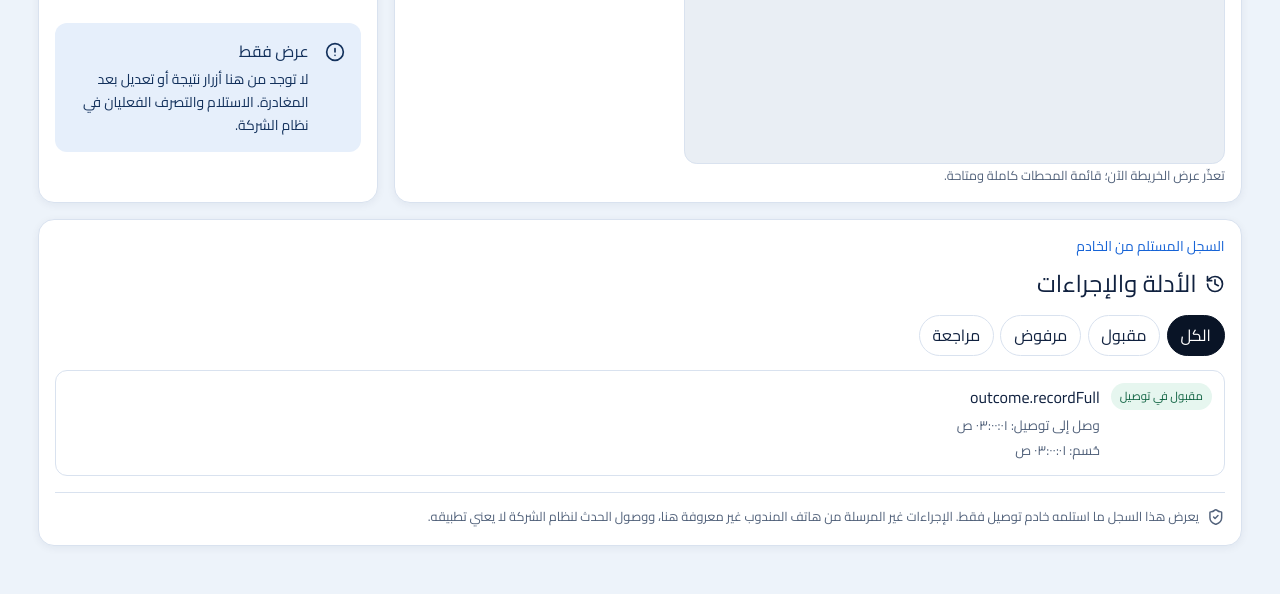
renders only the scoped task, read-only departed detail, and server-received action filters
(page scrolled)
Expected: the text "outcome.recordFull" is shown, 970,382 -> 1100,412
Click the button "مرفوض": (1041, 335) 1000,315 -> 1081,356
(page scrolled)
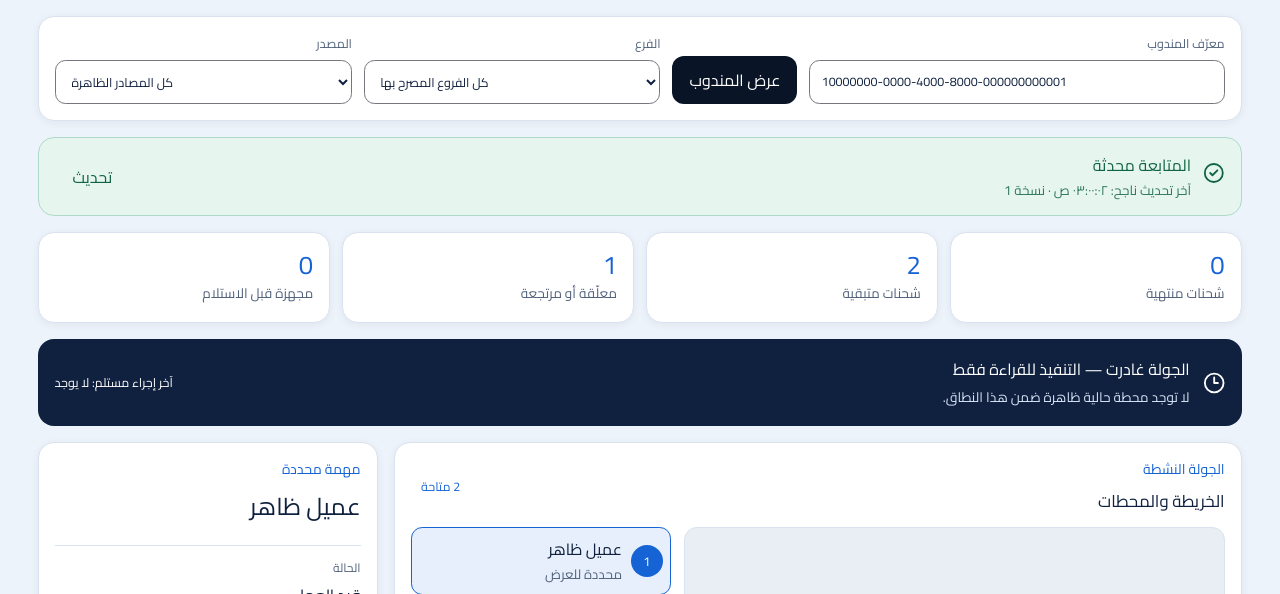
Select "10000000-0000-4000-8000-000000000010" in the dropdown labelled "المصدر": (204, 82) 55,60 -> 352,104
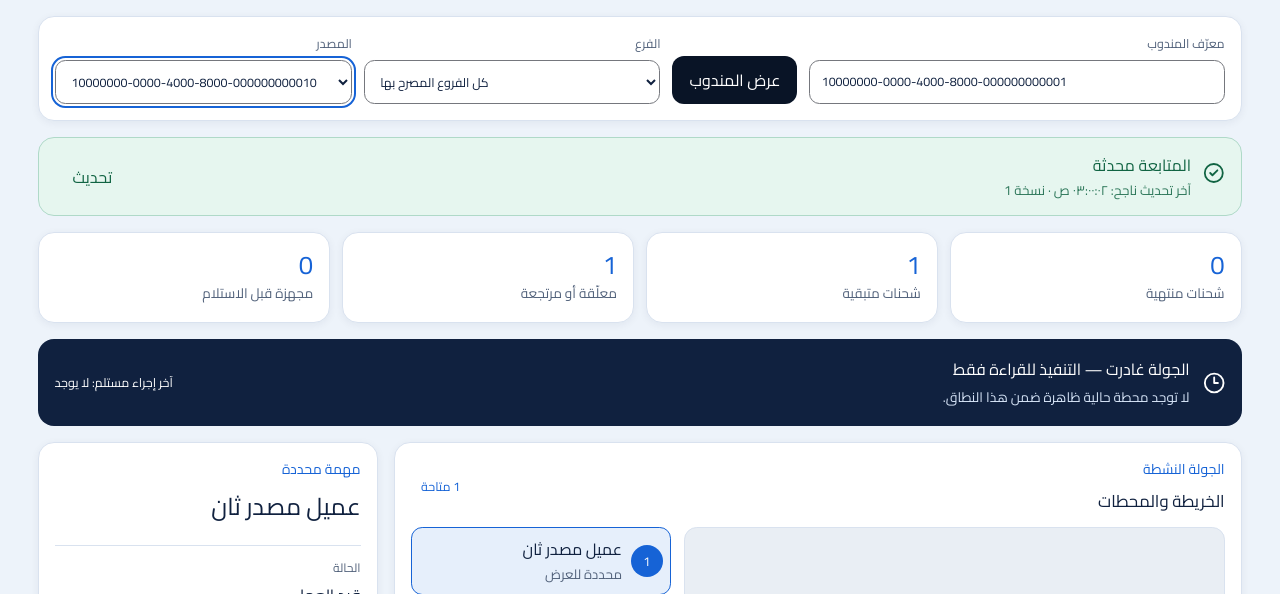
Expected: the 2nd text "عميل مصدر ثان" is shown, 522,535 -> 622,563
Expected: the button "عميل ظاهر" is gone
